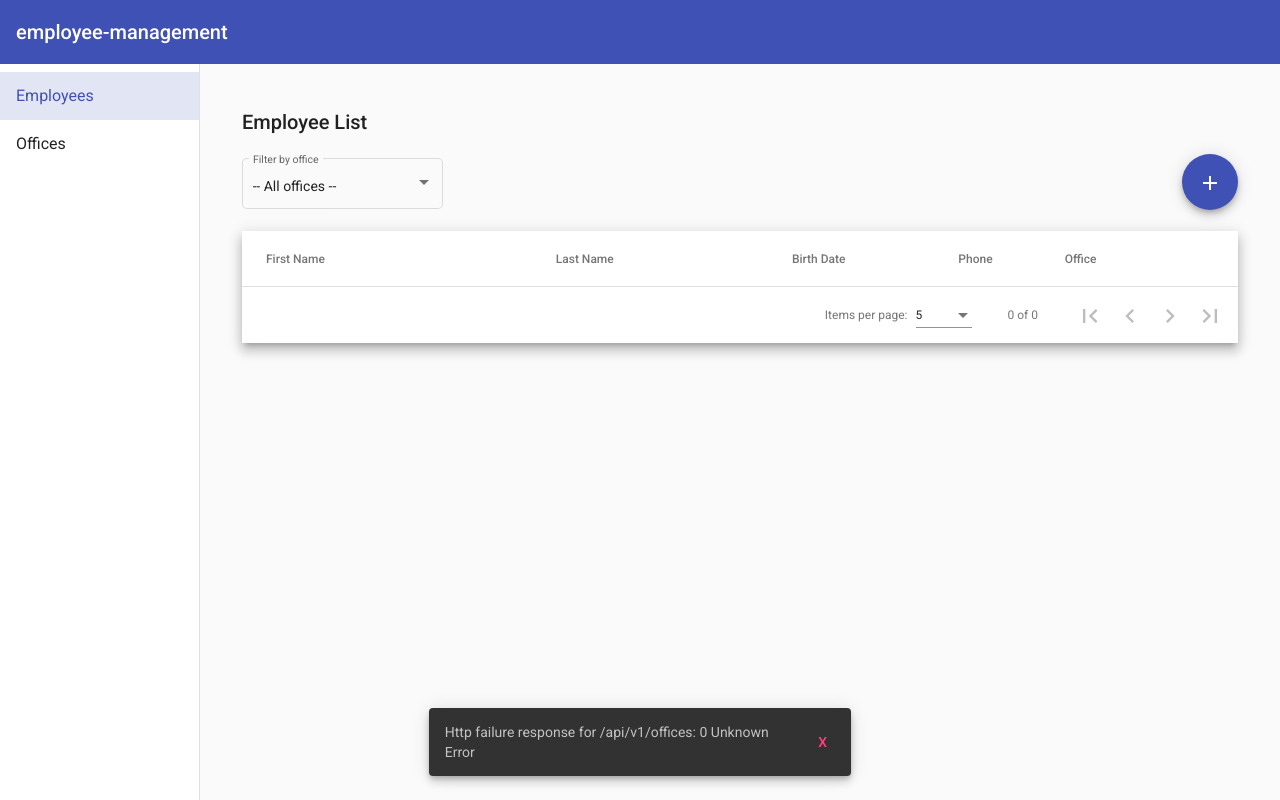
it: main app › renders main pages
This screenshot has width=1280, height=800.
Expected: the heading with class "cy-title" reads "Employee List", [242, 110, 367, 134]
What coordinates should you click on to do the following:
click the link "Offices"
I would click on:
 (41, 144)
Its box is [16, 134, 66, 153].
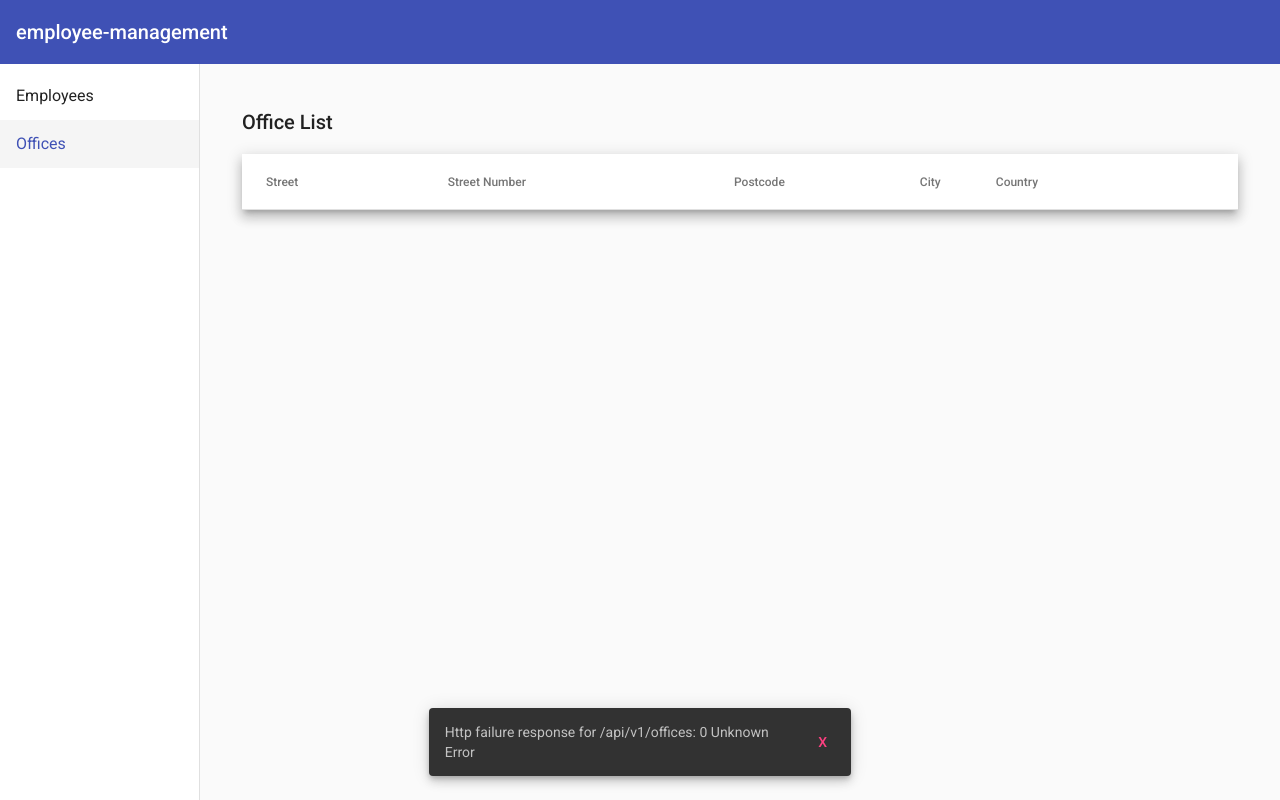
Expected: the heading with class "cy-title" reads "Office List", [242, 110, 333, 134]
